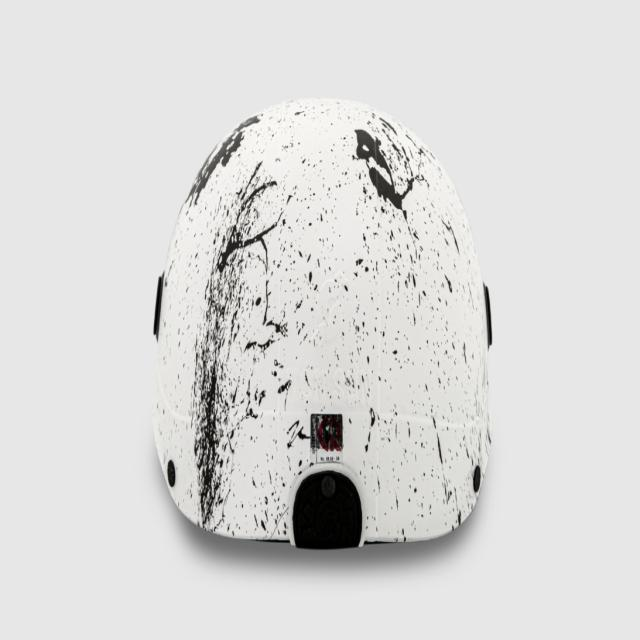Helmet: (150, 95, 496, 553)
